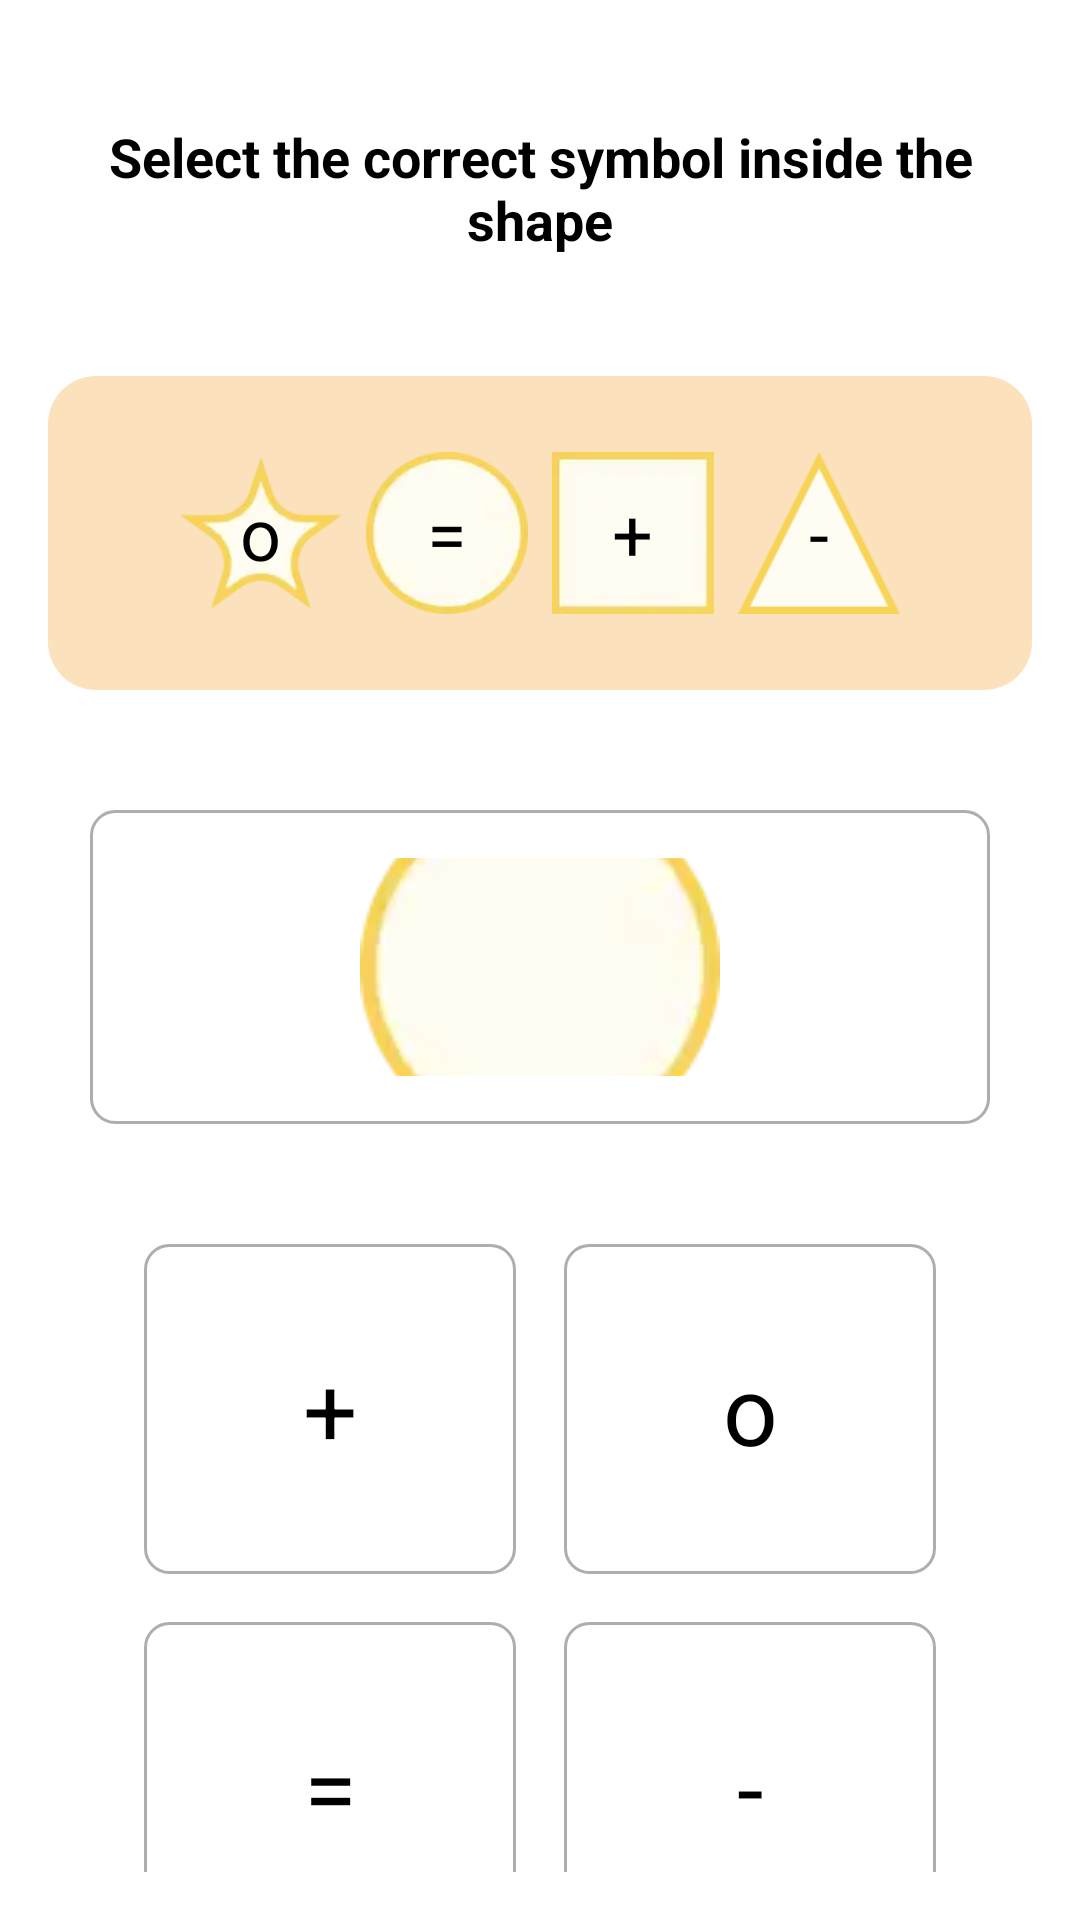

Icon click points for this 1080w x 1920h phone screenshot, format (x,y):
square: (633,533)
star: (261,534)
triangle: (819,533)
